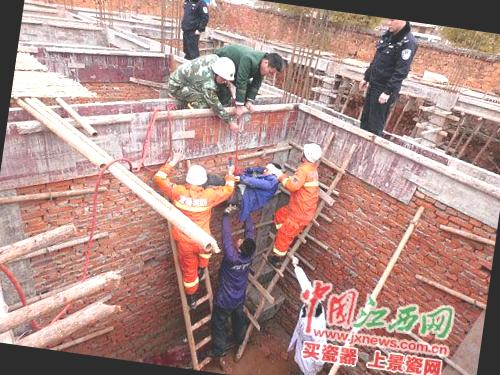no_helmet: (252, 47, 287, 80), (257, 158, 286, 182), (234, 228, 258, 253)
